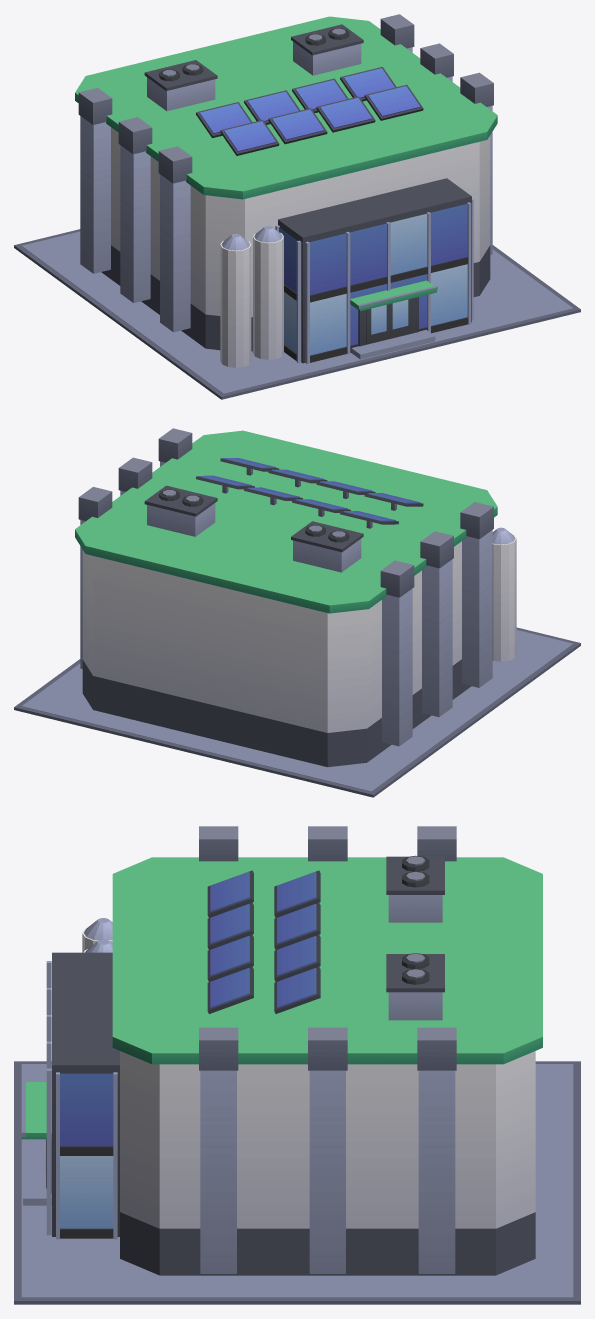
Rendered from ind_clean_fab_2x2.glb.
3 views of the same model, one above another, from view 1: azimuth 30°, elevation 25°; view 2: azimuth 150°, elevation 25°; view 3: azimuth 270°, elevation 25° (orthographic). The views are drawn at different scales.
Parts seen in each view (by area): view 1: ind_clean_fab_2x2; view 2: ind_clean_fab_2x2; view 3: ind_clean_fab_2x2.
Part boxes in pixels (<box>): ind_clean_fab_2x2: <box>14,14,580,399</box>; ind_clean_fab_2x2: <box>14,428,580,797</box>; ind_clean_fab_2x2: <box>14,826,580,1304</box>.
Size of the model in its own units: 3.74 by 1.95 by 3.74.
1 material, 1 textured.
